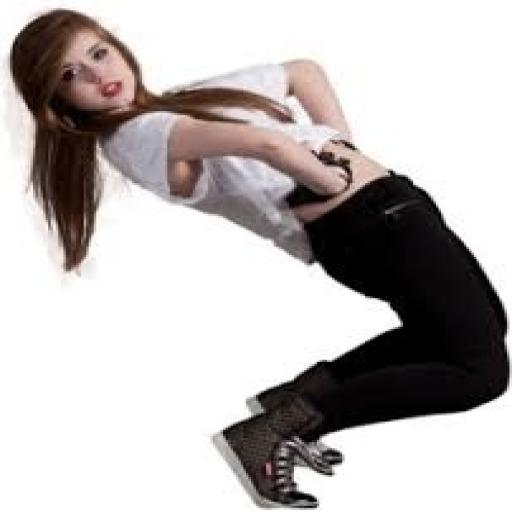dancing: (5, 6, 510, 510)
